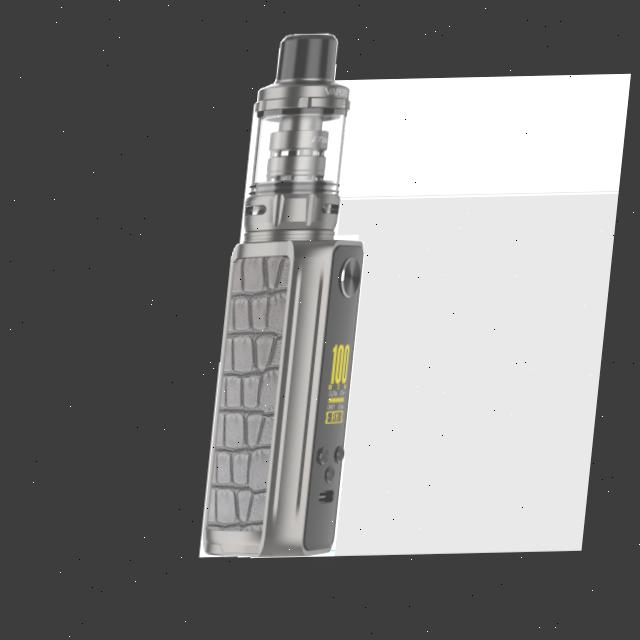vape: (213, 31, 390, 561)
